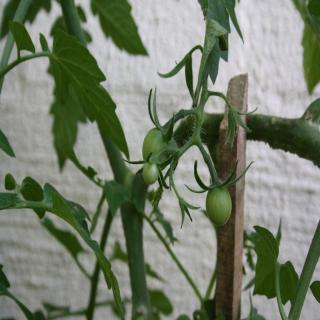tomato: (205, 183, 232, 228), (142, 129, 167, 167), (143, 160, 158, 184)
